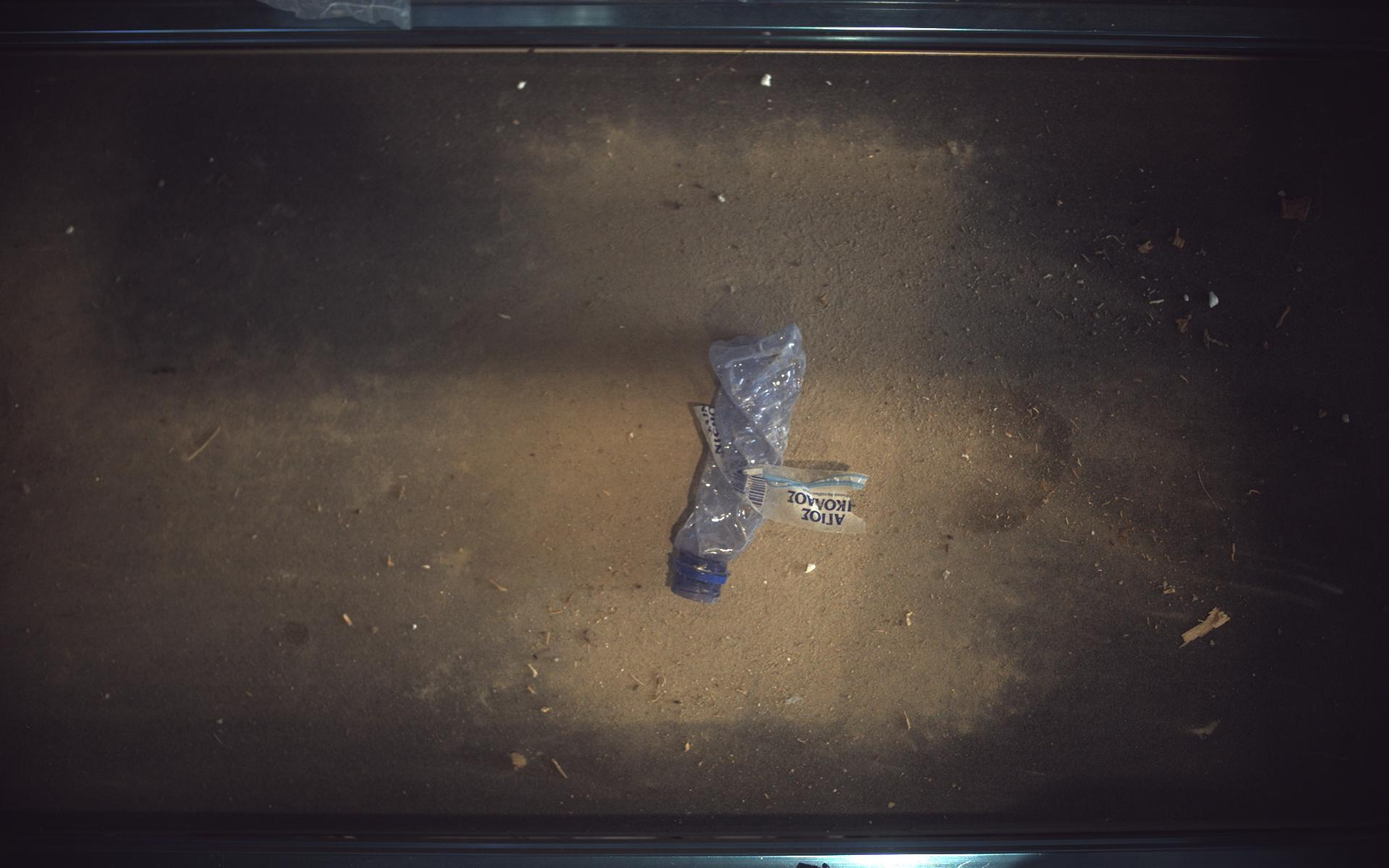general_w: (669, 325, 868, 604)
